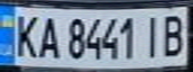1: (118, 13, 139, 60)
4: (84, 15, 106, 61), (100, 13, 121, 60)
8: (63, 13, 87, 60)
A: (36, 12, 63, 60)
B: (157, 11, 190, 57)
I: (139, 11, 166, 58)
K: (9, 10, 42, 60)
